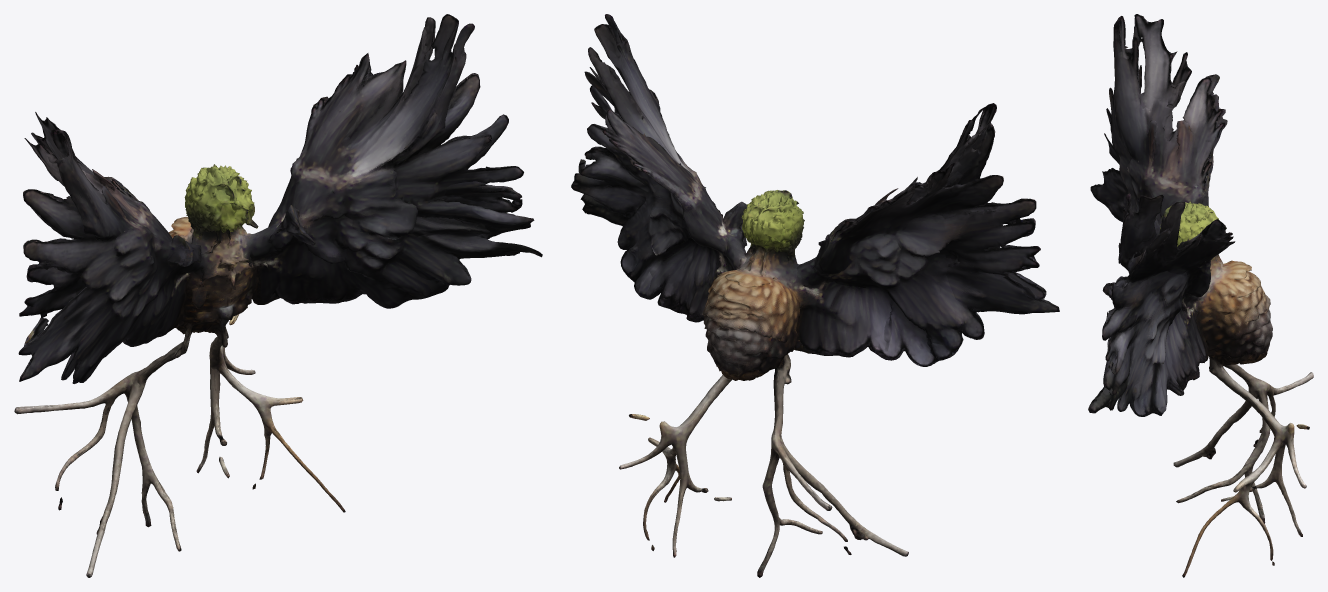
File: sculpt6 (2).glb
3 views of the same model, side by side, from view 1: azimuth 30°, elevation 25°; view 2: azimuth 150°, elevation 25°; view 3: azimuth 270°, elevation 25° (orthographic). The views are drawn at different scales.
Parts seen in each view (by area): view 1: mesh; view 2: mesh; view 3: mesh.
Boxes of the visible parts, x1,y1,x2,y2 form: mesh: (14, 14, 542, 577); mesh: (571, 14, 1059, 577); mesh: (1088, 14, 1313, 577).
Size of the model in its own units: 0.9978 by 0.9196 by 0.4304.
Materials: 1 (1 with a texture image).
